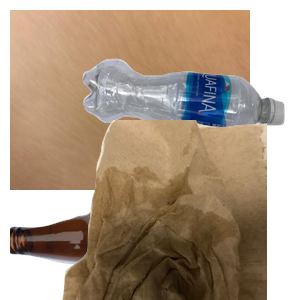cardboard: (10, 10, 250, 190)
glass: (10, 188, 250, 300)
plastic: (80, 56, 300, 187)
trash: (60, 120, 300, 300)
